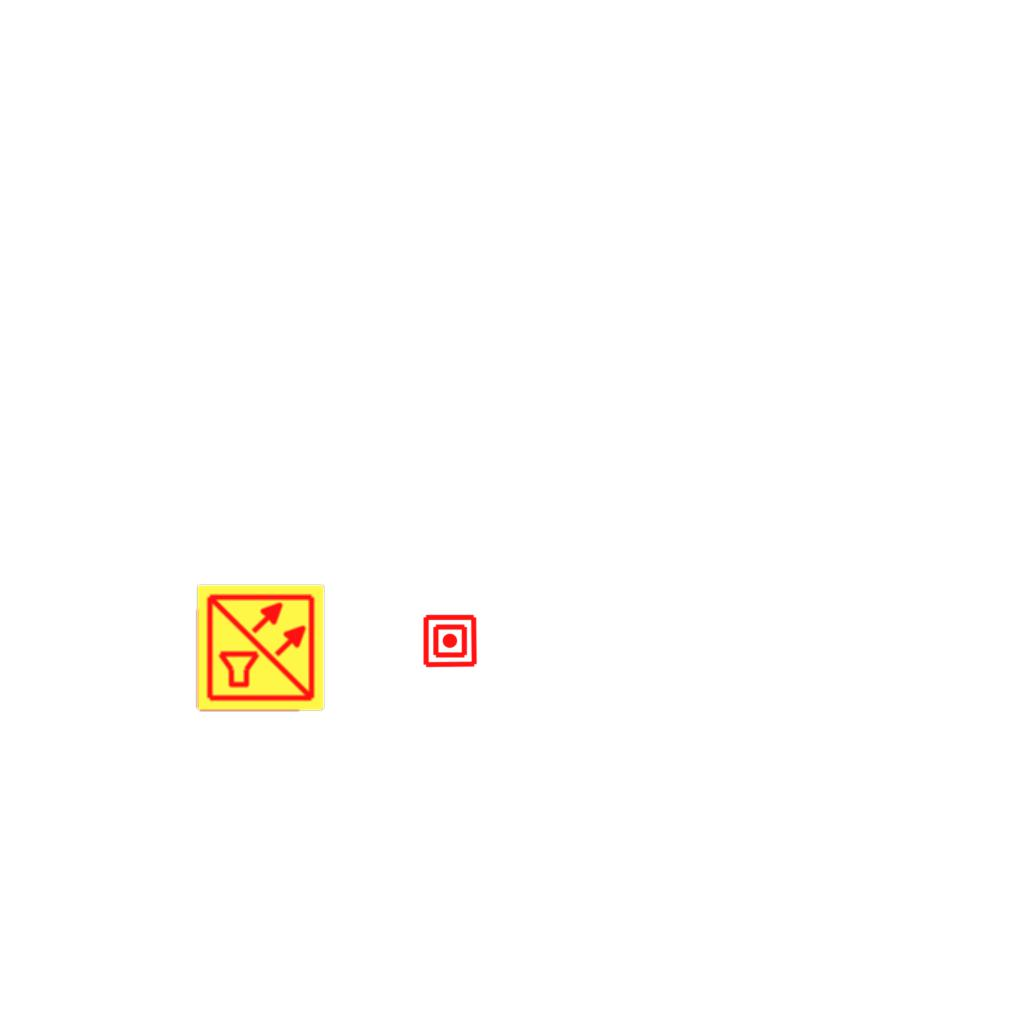NAM-Nichtautomatischer_Melder: (422, 613, 478, 669)
OKW_Multisensormelder_(Kombination_optischer_Rauch-Kahlenmonoxid_Waerme-Melder): (195, 582, 327, 714)
